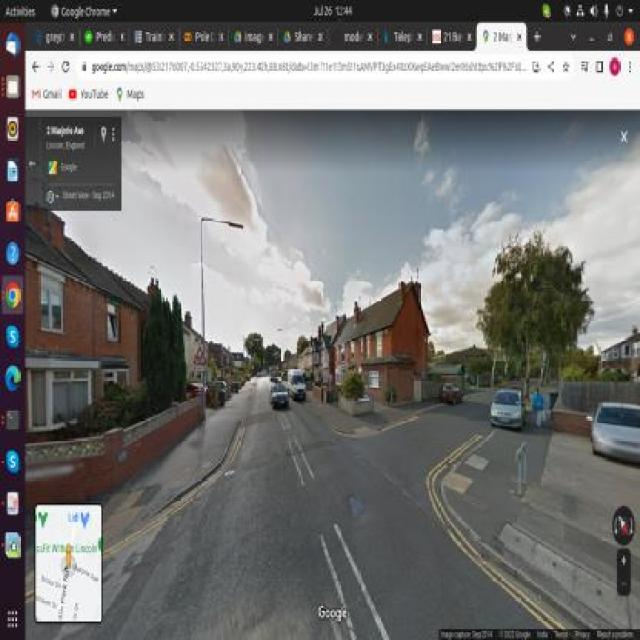pole: (193, 206, 215, 425)
